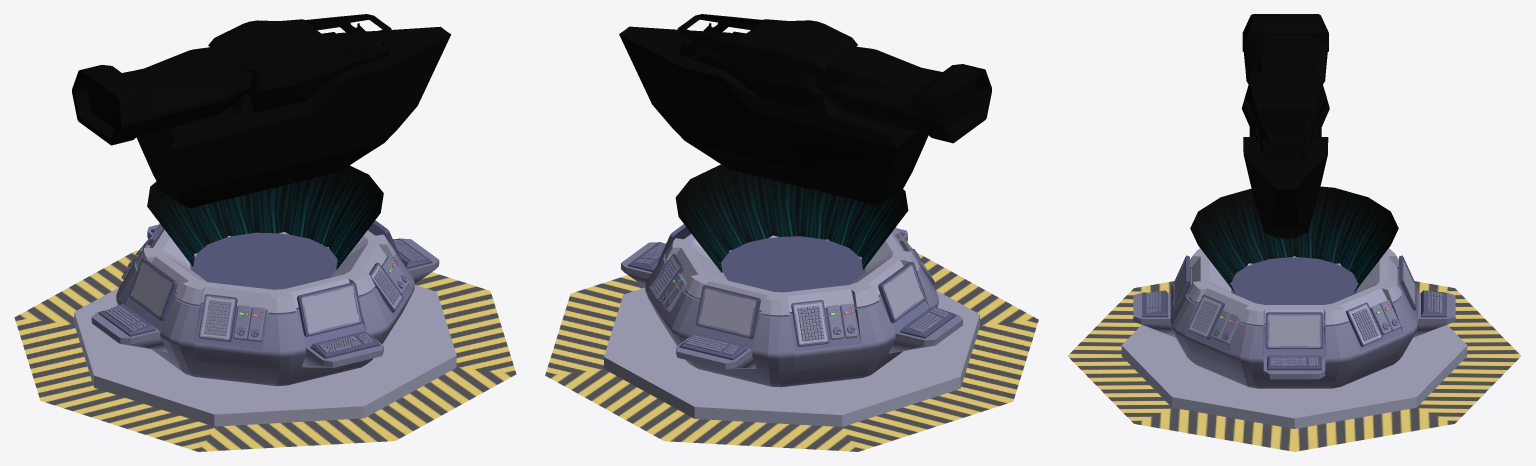
The model's file is Beacon.fbx.
3 renders of one model, left to right at view 1: azimuth 30°, elevation 25°; view 2: azimuth 150°, elevation 25°; view 3: azimuth 270°, elevation 25°, orthographic. The views are drawn at different scales.
Visible parts, largest first — view 1: base, shop2, polySurface96; view 2: base, shop2, polySurface96; view 3: base, shop2, polySurface96.
Boxes of the visible parts, x1,y1,x2,y2 form: base: [14, 220, 516, 451]; shop2: [72, 14, 450, 208]; polySurface96: [147, 165, 383, 269]; base: [545, 224, 1038, 451]; shop2: [619, 14, 991, 204]; polySurface96: [675, 164, 908, 272]; base: [1068, 248, 1520, 451]; shop2: [1241, 14, 1329, 238]; polySurface96: [1190, 186, 1398, 293].
Size of the model in its own units: 3.87 by 2.57 by 3.87.
